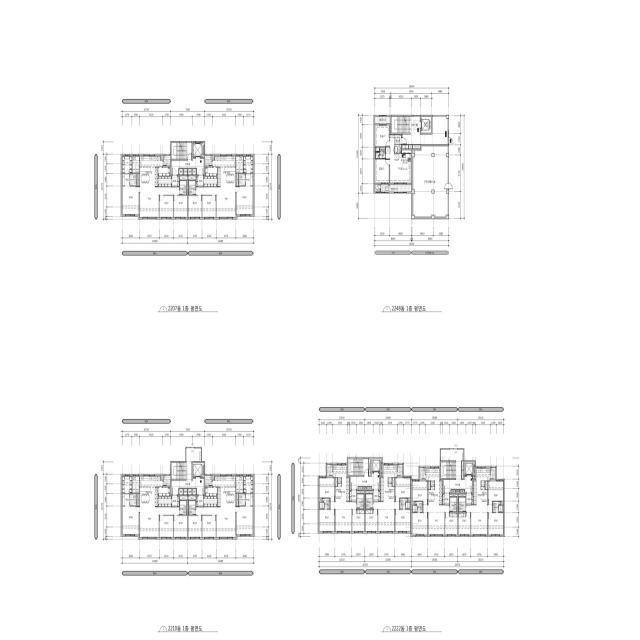space_balconi: (381, 185, 412, 192), (375, 116, 390, 123)
space_bedroom: (122, 506, 139, 535), (122, 186, 139, 215), (237, 506, 253, 535), (237, 186, 253, 215), (395, 477, 411, 501), (488, 480, 504, 504), (412, 480, 427, 504), (319, 477, 334, 501), (488, 513, 504, 535), (395, 510, 411, 532), (375, 159, 389, 183), (319, 510, 334, 532), (412, 513, 427, 535), (202, 516, 216, 538), (159, 516, 173, 538), (188, 516, 202, 538), (202, 196, 216, 218), (159, 196, 173, 218), (188, 196, 202, 218), (375, 125, 389, 146), (174, 516, 187, 538), (365, 510, 378, 532), (174, 196, 187, 218), (352, 510, 364, 532), (445, 513, 457, 535), (458, 513, 470, 535)
space_dressroom: (122, 475, 132, 493), (122, 155, 132, 173), (244, 475, 253, 493), (244, 155, 253, 173)
space_elevator: (421, 117, 431, 133), (193, 463, 204, 477), (193, 143, 204, 157), (465, 462, 475, 475), (372, 459, 382, 472)
space_elevator_hall: (171, 448, 204, 494), (441, 449, 472, 492), (403, 116, 448, 144), (351, 459, 379, 489), (171, 159, 204, 174)
space_front: (204, 496, 217, 506), (204, 176, 217, 186), (158, 497, 171, 506), (158, 177, 171, 186), (390, 135, 402, 144), (373, 490, 380, 501), (172, 496, 179, 506), (196, 496, 203, 506), (466, 494, 473, 504), (172, 176, 179, 186), (196, 176, 203, 186), (350, 490, 356, 501), (443, 494, 449, 504)
space_kitchen: (140, 475, 163, 507), (212, 475, 235, 507), (212, 155, 235, 187), (140, 155, 163, 187), (380, 464, 397, 502), (333, 464, 350, 502), (426, 467, 443, 505), (473, 468, 490, 505), (395, 154, 411, 170), (158, 487, 170, 496), (158, 167, 170, 176), (205, 488, 217, 496), (205, 168, 217, 176)
space_living_room: (139, 507, 179, 538), (196, 507, 236, 538), (196, 187, 236, 218), (139, 187, 179, 218), (386, 138, 411, 183), (423, 505, 449, 535), (330, 502, 356, 532), (466, 505, 492, 535), (373, 502, 399, 532)
space_other: (413, 146, 448, 217), (236, 475, 243, 493), (132, 475, 139, 493), (132, 155, 139, 173), (236, 155, 243, 173), (376, 148, 385, 158), (395, 145, 401, 153), (375, 185, 381, 192), (188, 496, 196, 500), (188, 176, 196, 180), (180, 496, 187, 500), (180, 176, 187, 180), (402, 150, 411, 153), (236, 174, 238, 186), (137, 494, 139, 506), (236, 494, 238, 506), (365, 490, 373, 493), (137, 174, 139, 186), (357, 490, 364, 493), (413, 145, 420, 148), (192, 489, 196, 494), (188, 489, 192, 494), (179, 489, 183, 494), (188, 169, 192, 174), (179, 169, 183, 174), (192, 169, 196, 174), (428, 481, 430, 489), (458, 494, 466, 496), (485, 481, 487, 489), (335, 478, 337, 486), (462, 462, 463, 478), (369, 459, 370, 475), (184, 489, 187, 494), (403, 145, 408, 148), (184, 169, 187, 174), (450, 494, 457, 496), (367, 487, 372, 489), (408, 498, 411, 501), (501, 501, 504, 504), (409, 145, 412, 148), (212, 476, 214, 480), (456, 490, 460, 492), (393, 478, 394, 486), (451, 490, 455, 492), (358, 487, 362, 489), (460, 490, 464, 492), (363, 487, 367, 489), (212, 156, 214, 160), (319, 498, 321, 501), (412, 501, 414, 504), (380, 474, 382, 475), (473, 477, 475, 478)
space_outdoor_room: (205, 475, 212, 486), (205, 155, 212, 166), (164, 475, 170, 486), (164, 155, 170, 166), (420, 467, 425, 480), (491, 467, 496, 480), (398, 464, 403, 476), (327, 464, 332, 476)
space_staircase: (171, 143, 192, 159), (391, 117, 410, 133), (171, 463, 186, 479), (348, 459, 363, 475), (441, 462, 456, 478)
space_toilet: (459, 497, 466, 511), (450, 497, 457, 511), (357, 494, 364, 508), (180, 501, 187, 515), (189, 501, 196, 515), (366, 494, 373, 508), (180, 181, 187, 195), (189, 181, 196, 195), (322, 498, 330, 509), (400, 498, 408, 509), (123, 494, 130, 506), (246, 494, 253, 506), (123, 174, 130, 186), (246, 174, 253, 186), (415, 502, 423, 512), (493, 502, 500, 512), (239, 494, 245, 500), (239, 174, 245, 180), (130, 494, 137, 499), (130, 500, 137, 505), (130, 180, 137, 185), (130, 174, 137, 179), (239, 500, 245, 505), (239, 180, 245, 185), (499, 505, 503, 512), (406, 502, 410, 509), (320, 502, 324, 509), (413, 505, 417, 512)
